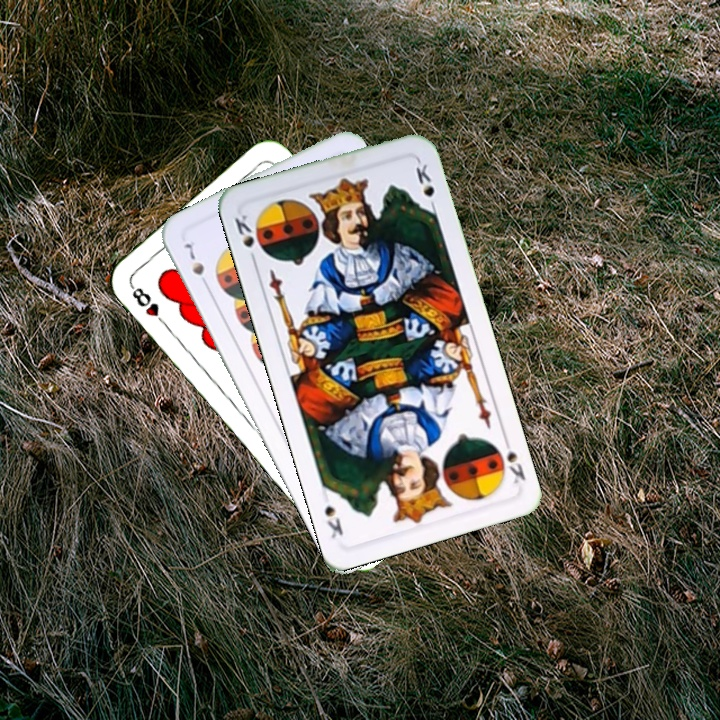H8: (126, 281, 170, 330)
S7: (180, 238, 212, 291)
SK: (230, 210, 259, 267), (499, 433, 528, 487)
